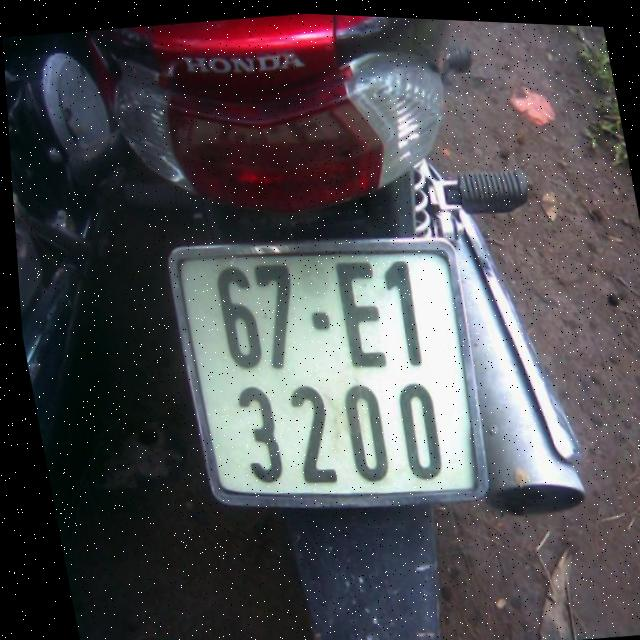motorcycle: (79, 4, 626, 640)
plate: (154, 207, 508, 543)
